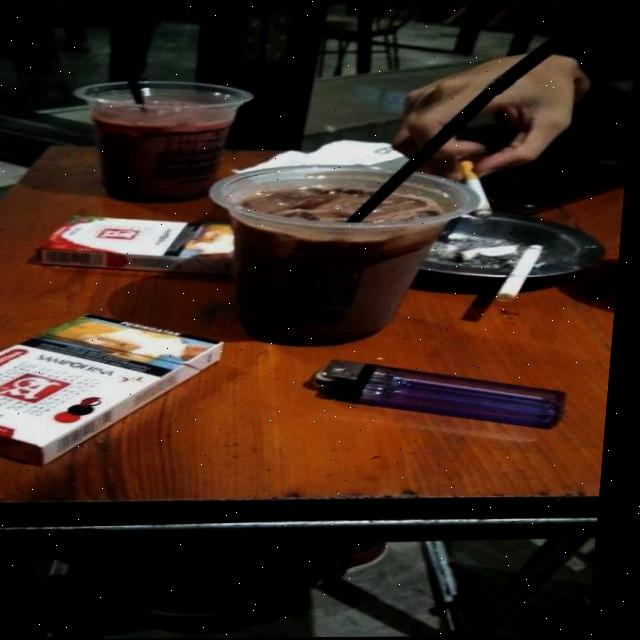cigarette: (504, 245, 544, 304), (461, 161, 500, 217)
